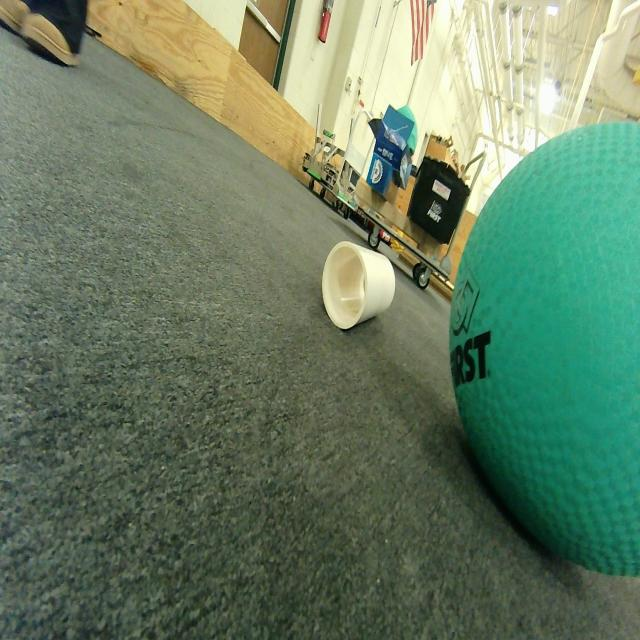algae: (443, 111, 640, 594)
coral: (318, 225, 404, 340)
